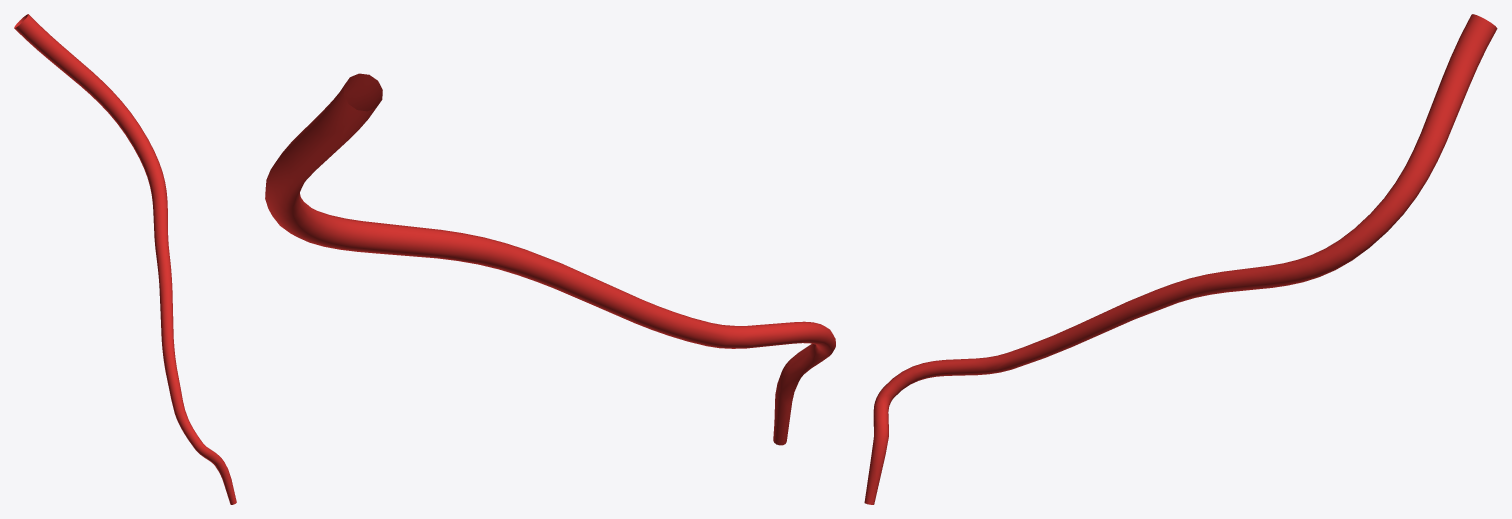
The model's file is circulatorio-obturator-artery-l.glb.
The picture shows the model from 3 angles, left to right: view 1: azimuth 30°, elevation 25°; view 2: azimuth 150°, elevation 25°; view 3: azimuth 270°, elevation 25°; orthographic projection. The views are drawn at different scales.
Visible parts, largest first — view 1: Obturator artery.l; view 2: Obturator artery.l; view 3: Obturator artery.l.
Boxes of the visible parts, left/top/right/bottom form: Obturator artery.l: left=14, top=14, right=236, bottom=504; Obturator artery.l: left=265, top=73, right=835, bottom=445; Obturator artery.l: left=864, top=14, right=1497, bottom=504.
Bounding box in the file's own units: 0.0163 × 0.0436 × 0.0509.
